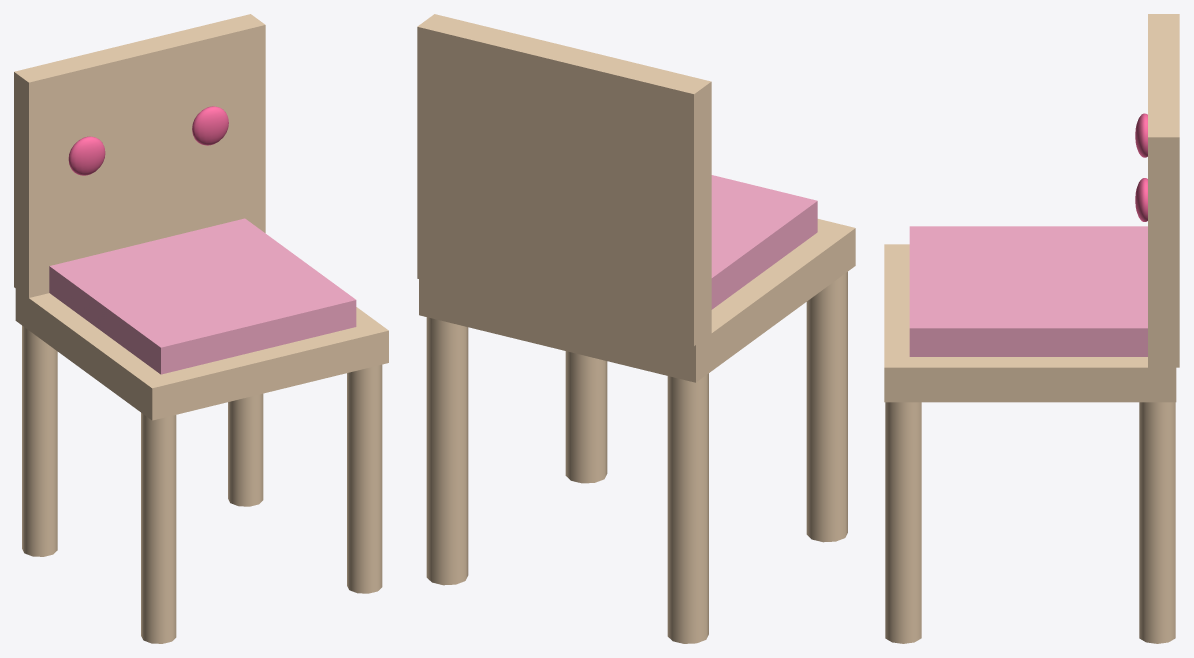
Rendered from table_cute_0.glb.
The picture shows the model from 3 angles, left to right: view 1: azimuth 30°, elevation 25°; view 2: azimuth 150°, elevation 25°; view 3: azimuth 270°, elevation 25°; orthographic projection. The views are drawn at different scales.
Bounding box in the file's own units: 0.46 × 0.88 × 0.465.
